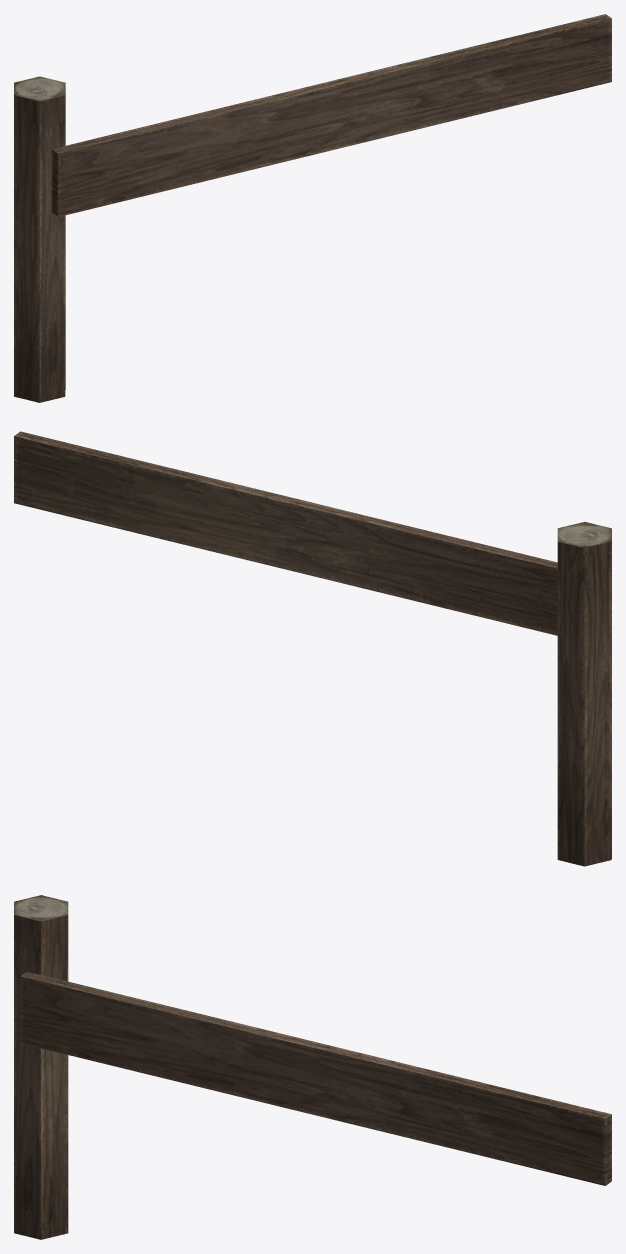
File: Forest.Fence_3.fbx
3 renders of one model, top to bottom at view 1: azimuth 30°, elevation 25°; view 2: azimuth 150°, elevation 25°; view 3: azimuth 330°, elevation 25°, orthographic. The views are drawn at different scales.
Parts seen in each view (by area): view 1: Forest.Fence_3; view 2: Forest.Fence_3; view 3: Forest.Fence_3.
Boxes of the visible parts, bbox=[...] form: Forest.Fence_3: bbox=[14, 14, 611, 402]; Forest.Fence_3: bbox=[14, 431, 611, 866]; Forest.Fence_3: bbox=[14, 895, 611, 1239].
Bounding box in the file's own units: 157 × 78.03 × 14.92.
